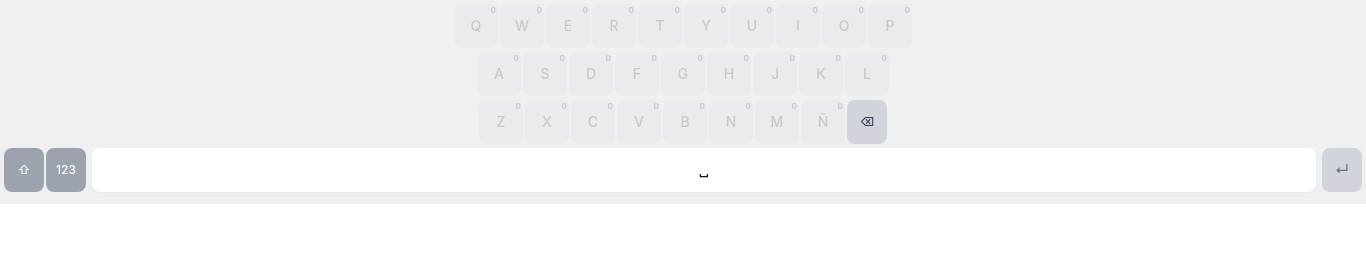
RestrictedKeyboard › disables all symbol keys when _symbols pool is exhausted
Press the mouse on the button "123" at (66, 170), box [46, 148, 86, 192]
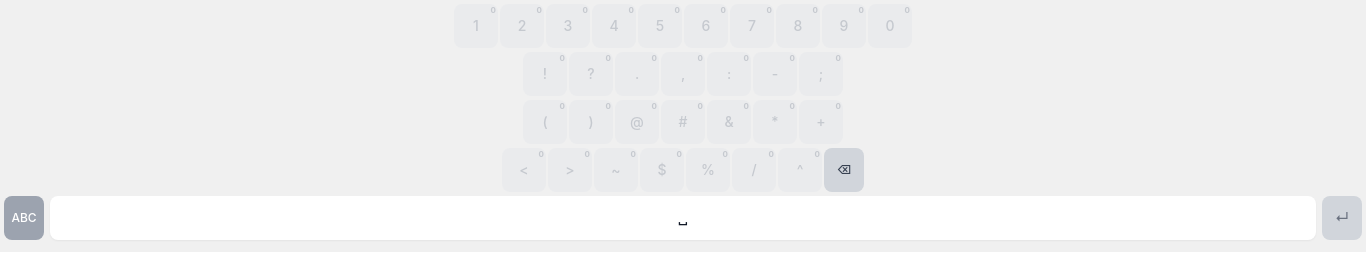
Expected: the button named "! (no stock)" is disabled, [523, 52, 567, 96]
Now the button named "? (no stock)" is disabled, box [569, 52, 613, 96]
